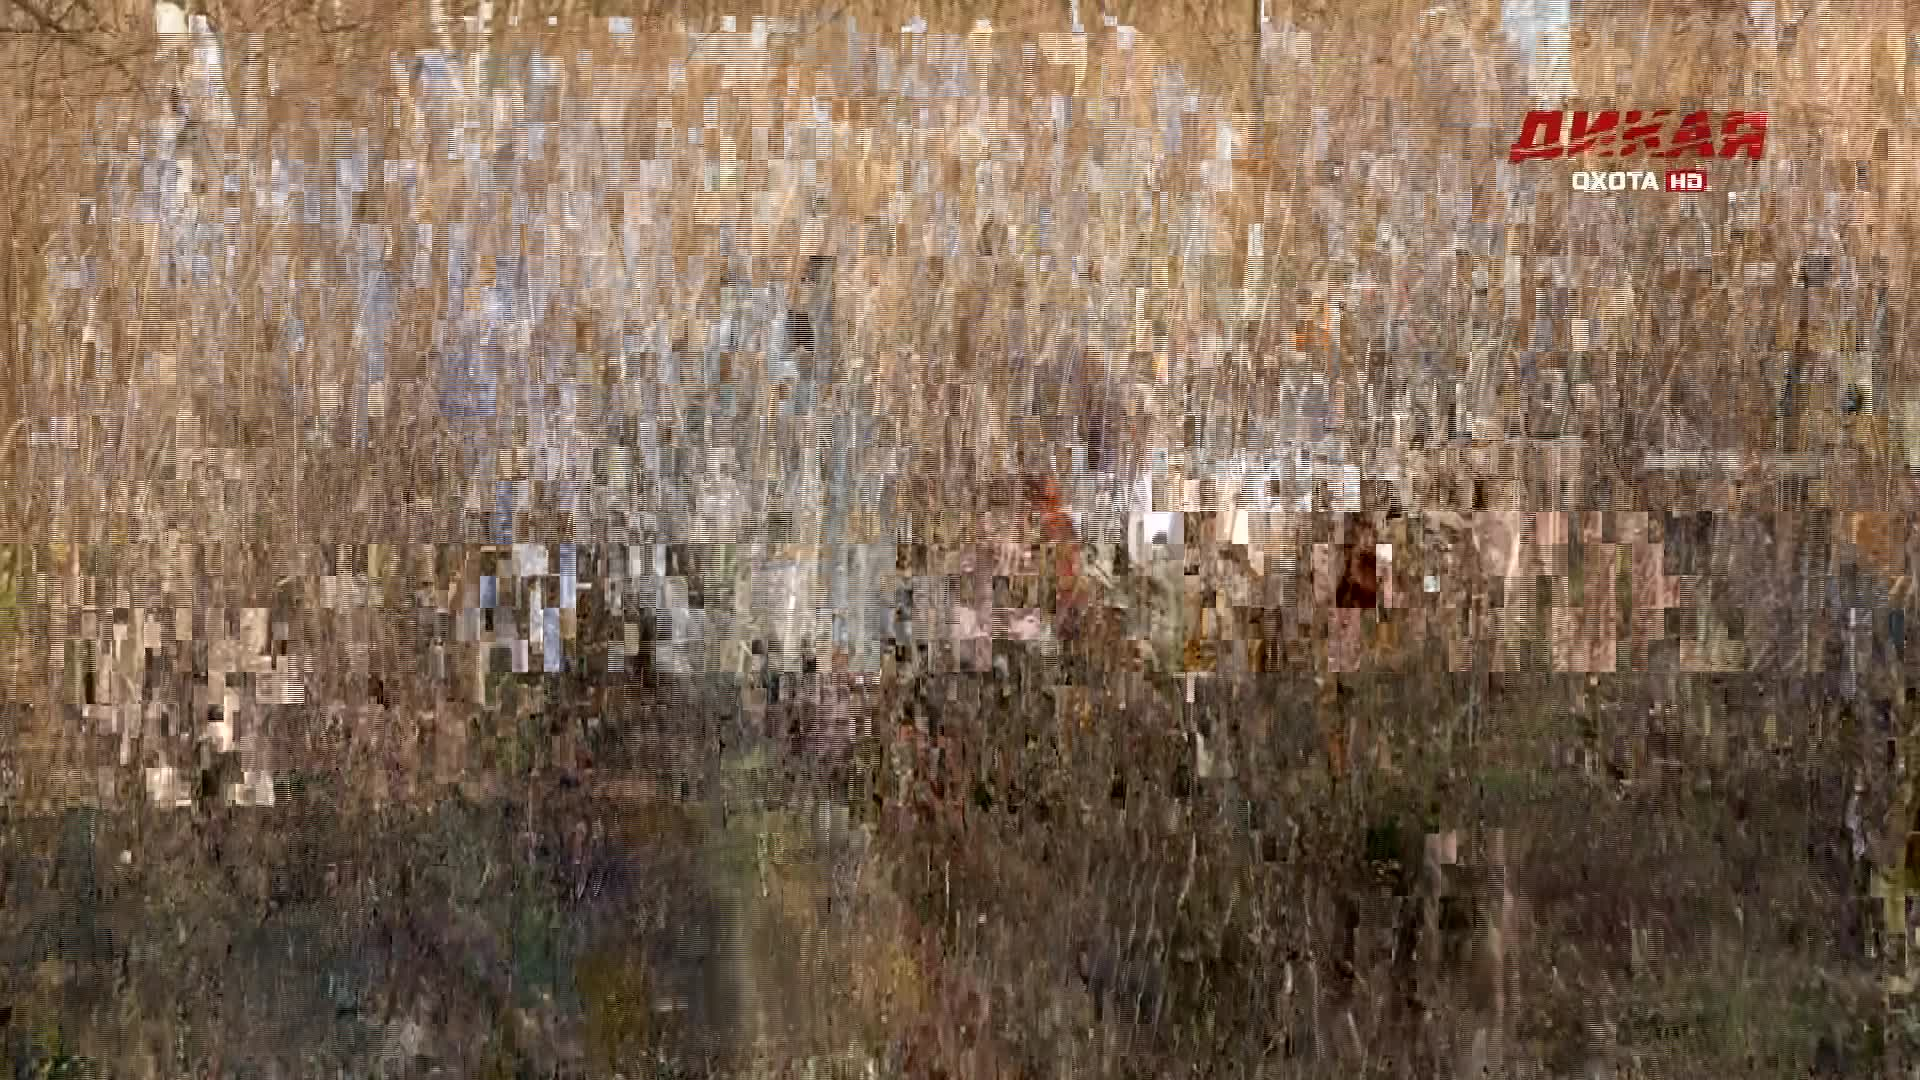Dikaya_Ohota_HD: (1507, 104, 1775, 196)
